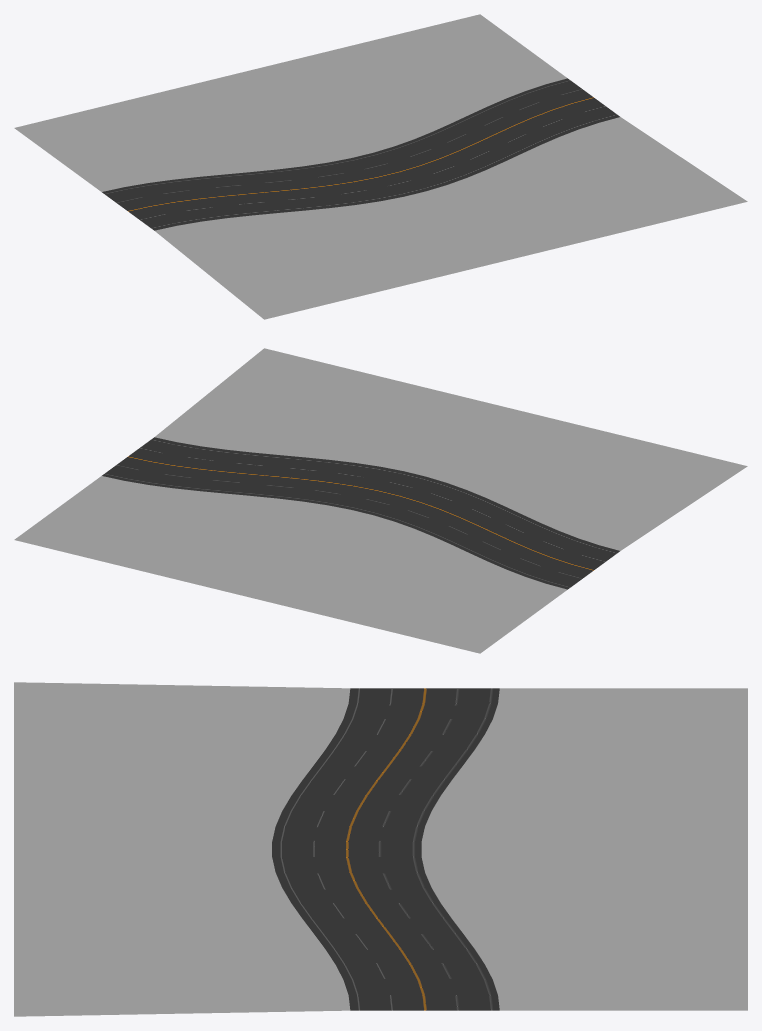
The model's file is road_wave.fbx.
The picture shows the model from 3 angles, top to bottom: view 1: azimuth 30°, elevation 25°; view 2: azimuth 150°, elevation 25°; view 3: azimuth 270°, elevation 25°; orthographic projection. The views are drawn at different scales.
Parts seen in each view (by area): view 1: polySurface38, polySurface39, polySurface37; view 2: polySurface38, polySurface39, polySurface37; view 3: polySurface38, polySurface39, polySurface37.
Boxes of the visible parts, x1,y1,x2,y2 form: polySurface38: [154, 117, 747, 319]; polySurface39: [14, 14, 567, 191]; polySurface37: [102, 78, 619, 230]; polySurface38: [154, 348, 747, 550]; polySurface39: [14, 476, 567, 653]; polySurface37: [102, 437, 619, 589]; polySurface38: [14, 682, 350, 1016]; polySurface39: [421, 688, 747, 1010]; polySurface37: [272, 688, 499, 1010].
Size of the model in its own units: 10414 by 0 by 9659.
